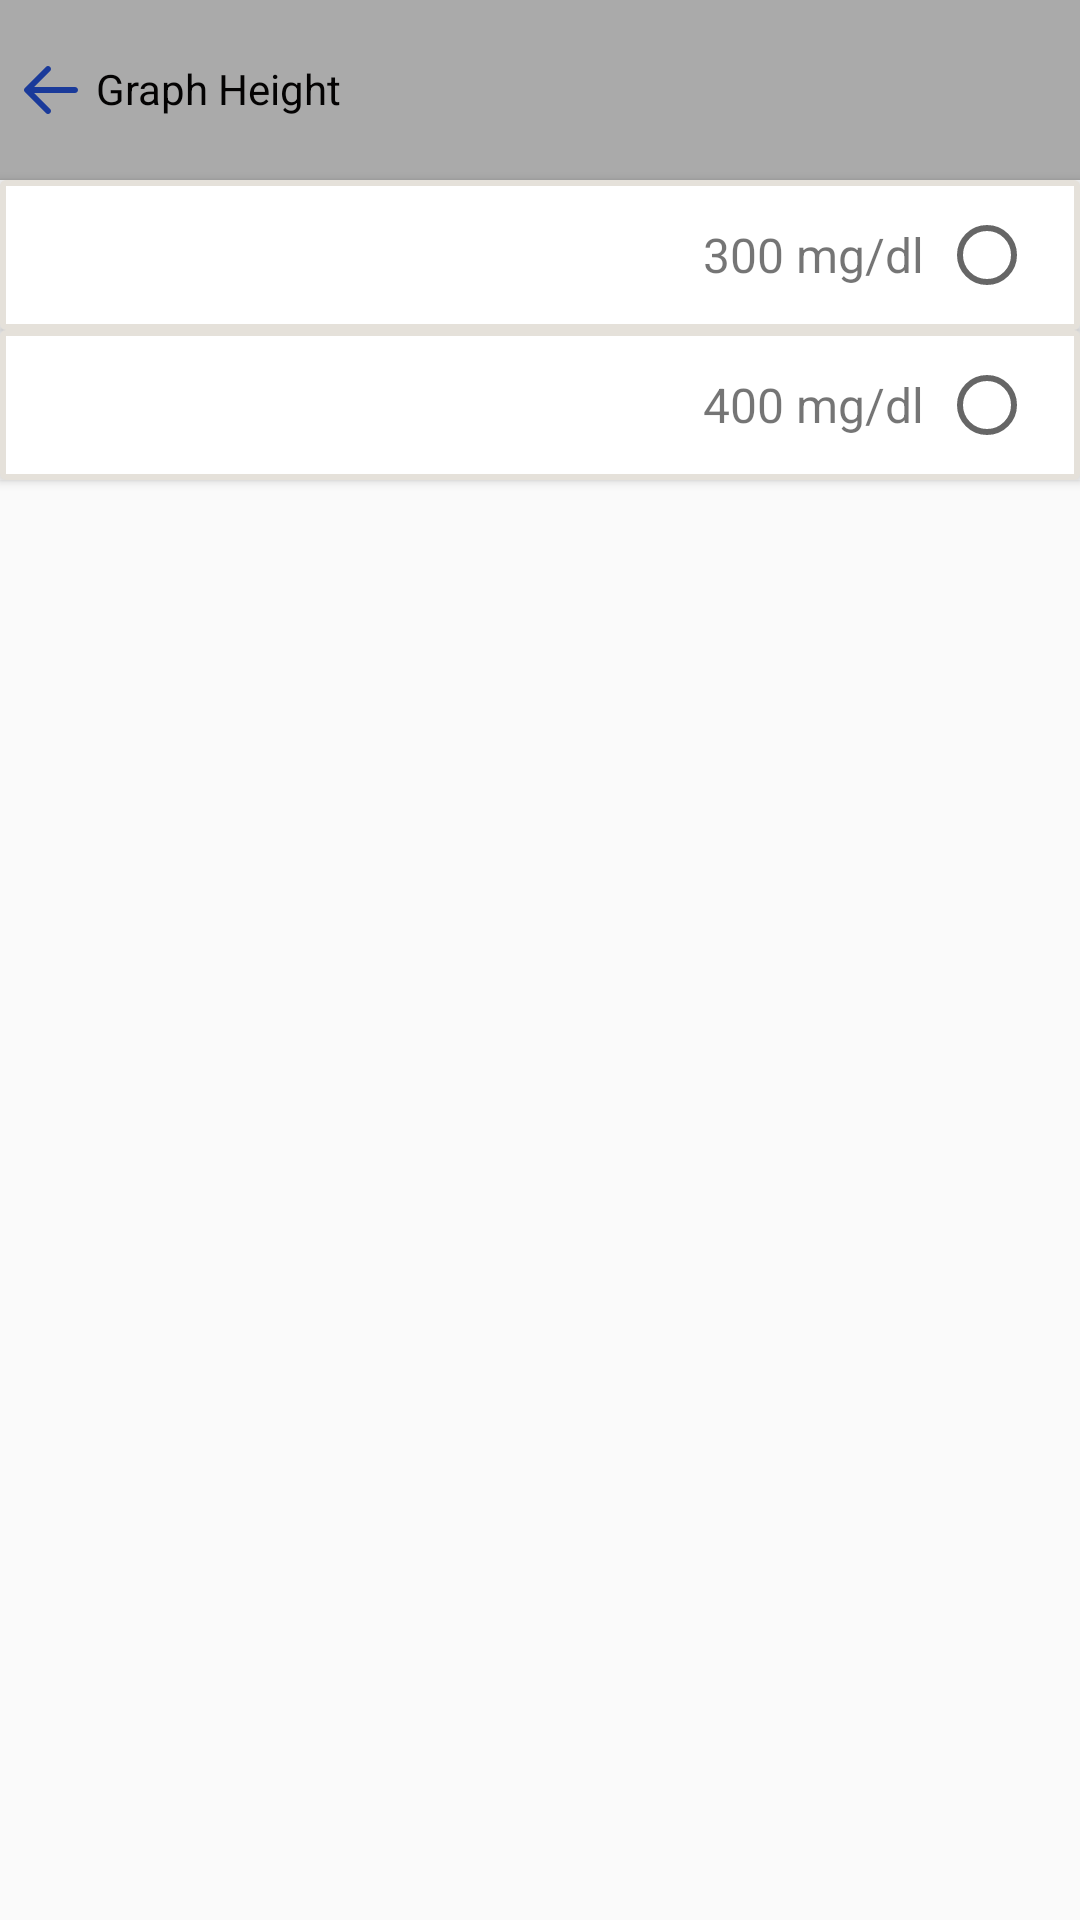

Point at icon controls on the screen. Image size 1080x1920, points as (x=x, y=y).
left: (x=51, y=90)
